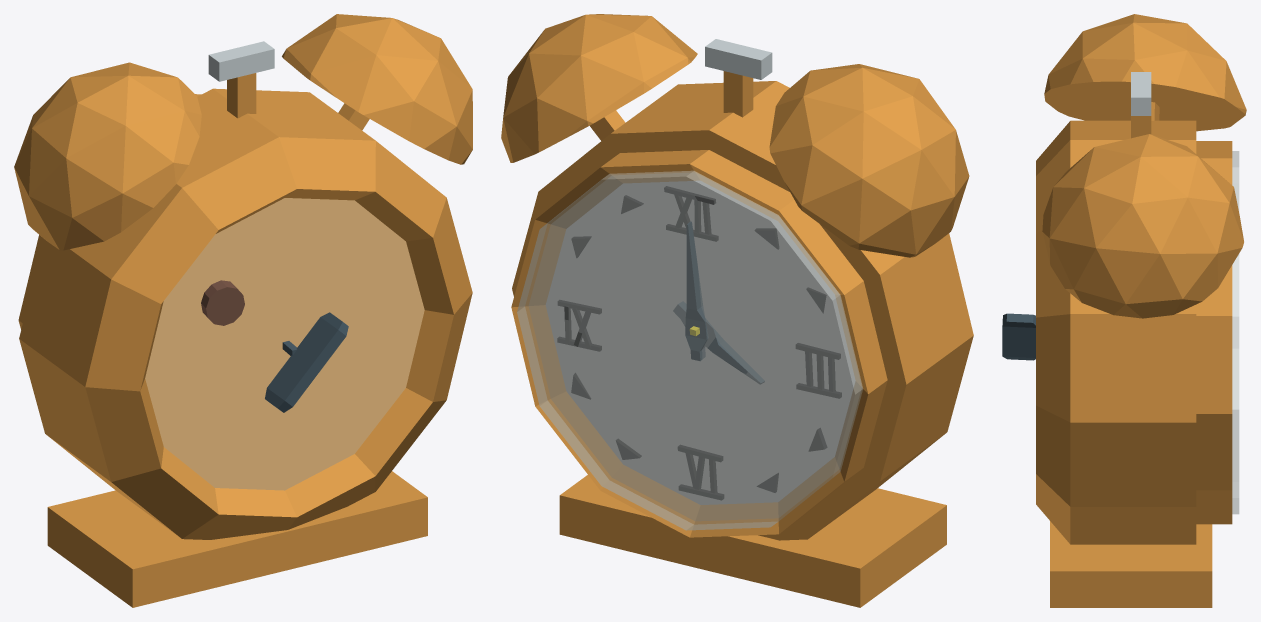
Rendered from alarm.glb.
3 renders of one model, left to right at view 1: azimuth 30°, elevation 25°; view 2: azimuth 150°, elevation 25°; view 3: azimuth 270°, elevation 25°, orthographic. The views are drawn at different scales.
Parts seen in each view (by area): view 1: Node; view 2: Node; view 3: Node.
Part boxes in pixels (box(x1,y1,x2,y2)): Node: box(14, 14, 472, 607); Node: box(501, 14, 973, 607); Node: box(1002, 14, 1246, 607).
Size of the model in its own units: 0.2329 by 0.2541 by 0.1207.
